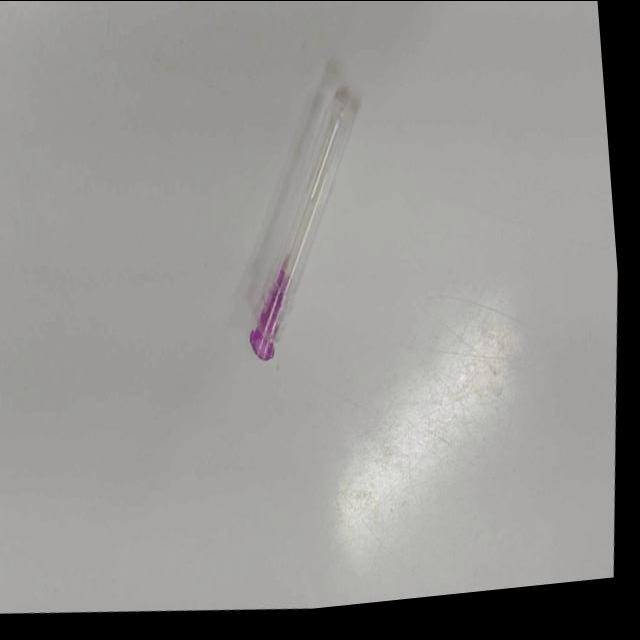General: (246, 254, 296, 363)
Pathological: (1, 2, 618, 615)
Sharps: (245, 83, 359, 362)
